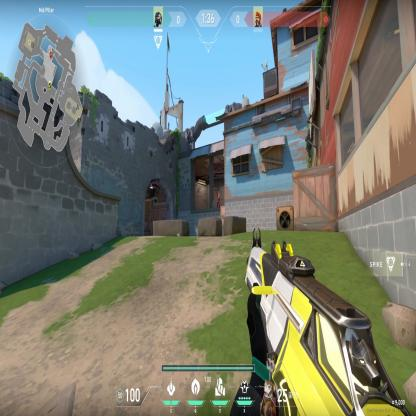enemy: (216, 190, 221, 207)
